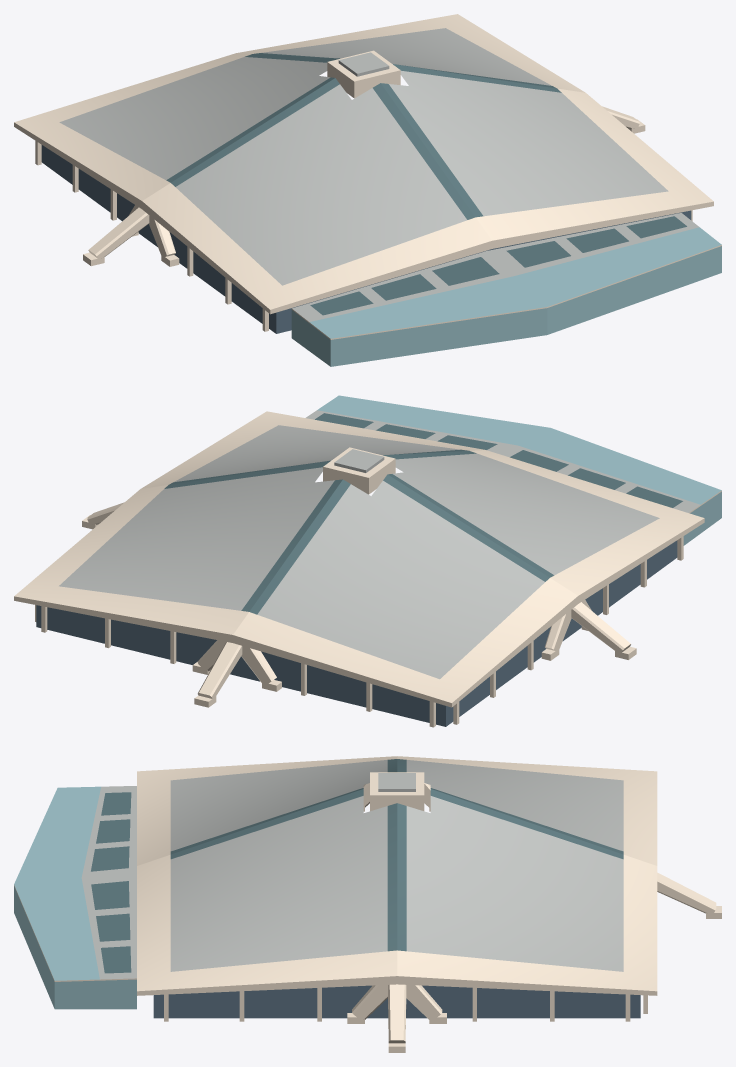
File: sea-climate-pledge-arena.glb
3 views of the same model, one above another, from view 1: azimuth 30°, elevation 25°; view 2: azimuth 150°, elevation 25°; view 3: azimuth 270°, elevation 25° (orthographic). The views are drawn at different scales.
Visible parts, largest first — view 1: Climate Pledge Arena; view 2: Climate Pledge Arena; view 3: Climate Pledge Arena.
Part boxes in pixels (x1,y1,x2,y2): Climate Pledge Arena: (14,14,721,366); Climate Pledge Arena: (14,395,721,727); Climate Pledge Arena: (14,756,721,1052).
Size of the model in its own units: 155 by 35.4 by 169.
